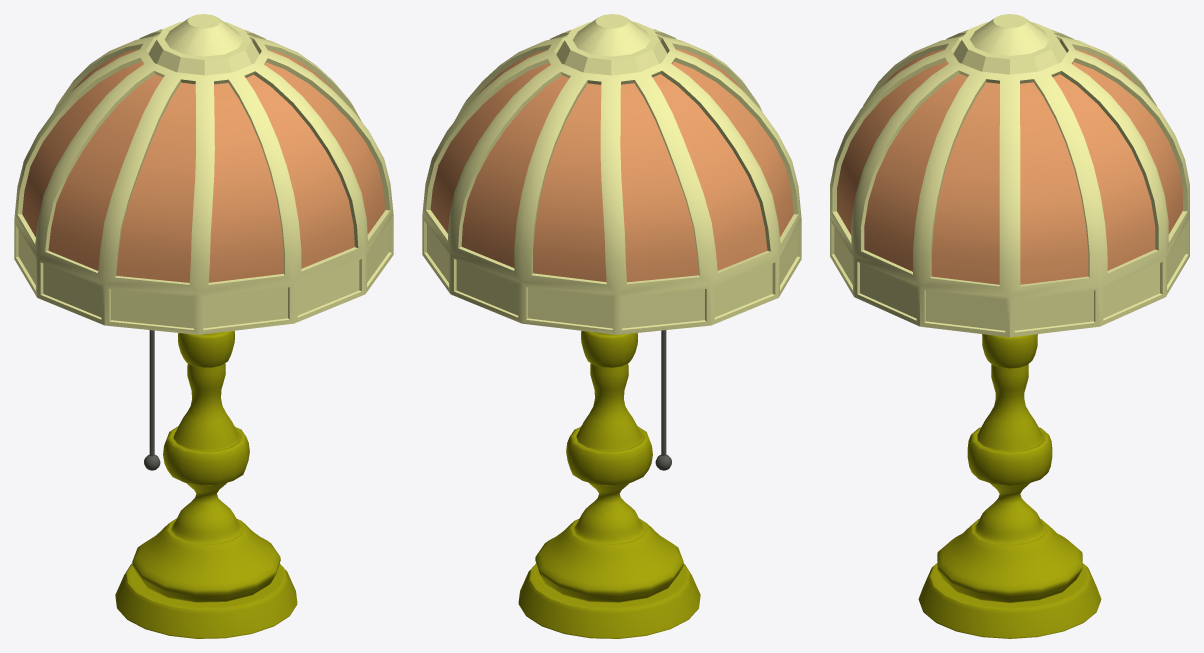
The model's file is Modelo_LamparaSombrilla.fbx.
The picture shows the model from 3 angles, left to right: view 1: azimuth 30°, elevation 25°; view 2: azimuth 150°, elevation 25°; view 3: azimuth 270°, elevation 25°; orthographic projection.
Visible parts, largest first — view 1: polySurface49, polySurface35, polySurface43, polySurface44, polySurface42, polySurface45, polySurface33, polySurface41, polySurface46, polySurface36; view 2: polySurface49, polySurface35, polySurface40, polySurface39, polySurface41, polySurface38, polySurface33, polySurface42, polySurface37, polySurface36; view 3: polySurface49, polySurface35, polySurface47, polySurface48, polySurface46, polySurface37, polySurface33, polySurface45, polySurface38.
Part boxes in pixels (bbox=[...]): polySurface49: bbox=[14, 14, 393, 334]; polySurface35: bbox=[132, 330, 280, 602]; polySurface43: bbox=[116, 82, 195, 282]; polySurface44: bbox=[208, 83, 283, 282]; polySurface42: bbox=[48, 74, 163, 270]; polySurface45: bbox=[246, 74, 354, 268]; polySurface33: bbox=[115, 563, 297, 638]; polySurface41: bbox=[22, 61, 143, 237]; polySurface46: bbox=[264, 62, 385, 234]; polySurface36: bbox=[144, 330, 160, 470]; polySurface49: bbox=[422, 14, 801, 334]; polySurface35: bbox=[535, 330, 683, 602]; polySurface40: bbox=[620, 83, 698, 282]; polySurface39: bbox=[533, 83, 606, 282]; polySurface41: bbox=[652, 74, 767, 270]; polySurface38: bbox=[461, 75, 568, 267]; polySurface33: bbox=[518, 563, 700, 638]; polySurface42: bbox=[672, 61, 793, 237]; polySurface37: bbox=[430, 62, 550, 233]; polySurface36: bbox=[655, 330, 671, 470]; polySurface49: bbox=[830, 14, 1189, 337]; polySurface35: bbox=[937, 334, 1082, 603]; polySurface47: bbox=[931, 82, 999, 284]; polySurface48: bbox=[1020, 82, 1088, 284]; polySurface46: bbox=[864, 74, 967, 271]; polySurface37: bbox=[1053, 74, 1155, 270]; polySurface33: bbox=[918, 563, 1101, 638]; polySurface45: bbox=[837, 61, 948, 234]; polySurface38: bbox=[1072, 61, 1182, 234].
Size of the model in its own units: 31.99 by 53.21 by 29.98.
